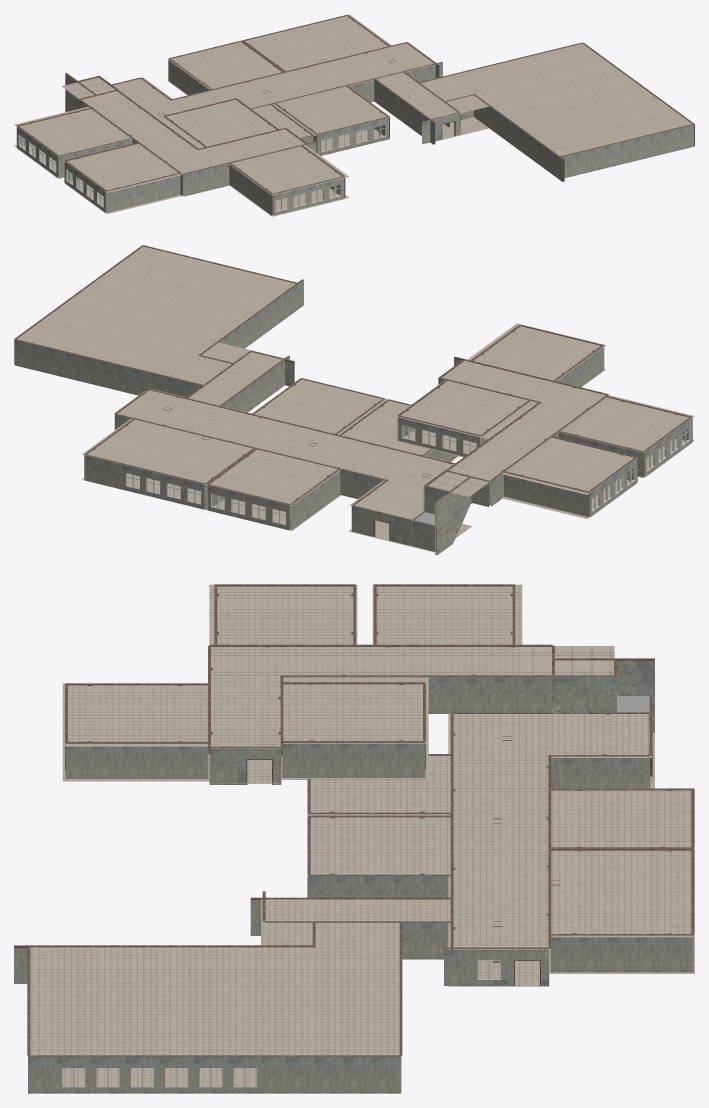
File: Building.fbx
3 views of the same model, one above another, from view 1: azimuth 30°, elevation 25°; view 2: azimuth 150°, elevation 25°; view 3: azimuth 270°, elevation 25° (orthographic). The views are drawn at different scales.
Visible parts, largest first — view 1: pPlane4, pPlane5, pPlane2, pPlane1, polySurface2387, polySurface2216, polySurface2175, polySurface2180, polySurface2420, polySurface2179, polySurface2181, polySurface2427 (+11 smaller); view 2: pPlane4, pPlane5, pPlane1, polySurface2387, pPlane2, polySurface2131, polySurface2075, polySurface2130, polySurface2203, polySurface2074, polySurface2201, polySurface2200 (+2 smaller); view 3: pPlane4, pPlane5, pPlane1, polySurface2389, polySurface2387, pPlane2, polySurface2194, polySurface2402, polySurface2510, polySurface2487, polySurface2492, polySurface2183 (+35 smaller).
Boxes of the visible parts, x1=… form: pPlane4: x1=113, y1=14, x2=694, y2=156; pPlane5: x1=14, y1=77, x2=348, y2=195; pPlane2: x1=14, y1=144, x2=348, y2=216; pPlane1: x1=167, y1=80, x2=694, y2=155; polySurface2387: x1=65, y1=72, x2=96, y2=111; polySurface2216: x1=437, y1=112, x2=459, y2=140; polySurface2175: x1=575, y1=149, x2=590, y2=175; polySurface2180: x1=649, y1=131, x2=664, y2=157; polySurface2420: x1=183, y1=170, x2=198, y2=196; polySurface2179: x1=634, y1=134, x2=649, y2=160; polySurface2181: x1=664, y1=127, x2=679, y2=153; polySurface2427: x1=105, y1=187, x2=121, y2=212; pPlane4: x1=14, y1=246, x2=455, y2=520; pPlane5: x1=395, y1=323, x2=694, y2=496; pPlane1: x1=14, y1=364, x2=471, y2=552; polySurface2387: x1=435, y1=476, x2=471, y2=555; pPlane2: x1=395, y1=369, x2=694, y2=518; polySurface2131: x1=412, y1=520, x2=436, y2=551; polySurface2075: x1=85, y1=454, x2=105, y2=485; polySurface2130: x1=394, y1=516, x2=412, y2=545; polySurface2203: x1=117, y1=364, x2=134, y2=394; polySurface2074: x1=105, y1=459, x2=123, y2=489; polySurface2201: x1=83, y1=356, x2=100, y2=385; polySurface2200: x1=66, y1=351, x2=83, y2=381; pPlane4: x1=30, y1=713, x2=694, y2=1056; pPlane5: x1=62, y1=584, x2=614, y2=748; pPlane1: x1=62, y1=733, x2=694, y2=1093; polySurface2389: x1=553, y1=675, x2=616, y2=713; polySurface2387: x1=554, y1=658, x2=654, y2=732; pPlane2: x1=62, y1=708, x2=552, y2=783; polySurface2194: x1=314, y1=1055, x2=343, y2=1093; polySurface2402: x1=209, y1=746, x2=238, y2=784; polySurface2510: x1=339, y1=741, x2=368, y2=779; polySurface2487: x1=495, y1=675, x2=524, y2=713; polySurface2492: x1=438, y1=675, x2=467, y2=713; polySurface2183: x1=28, y1=1055, x2=56, y2=1093.
Bounding box in the file's own units: 2157 × 180 × 1424.
